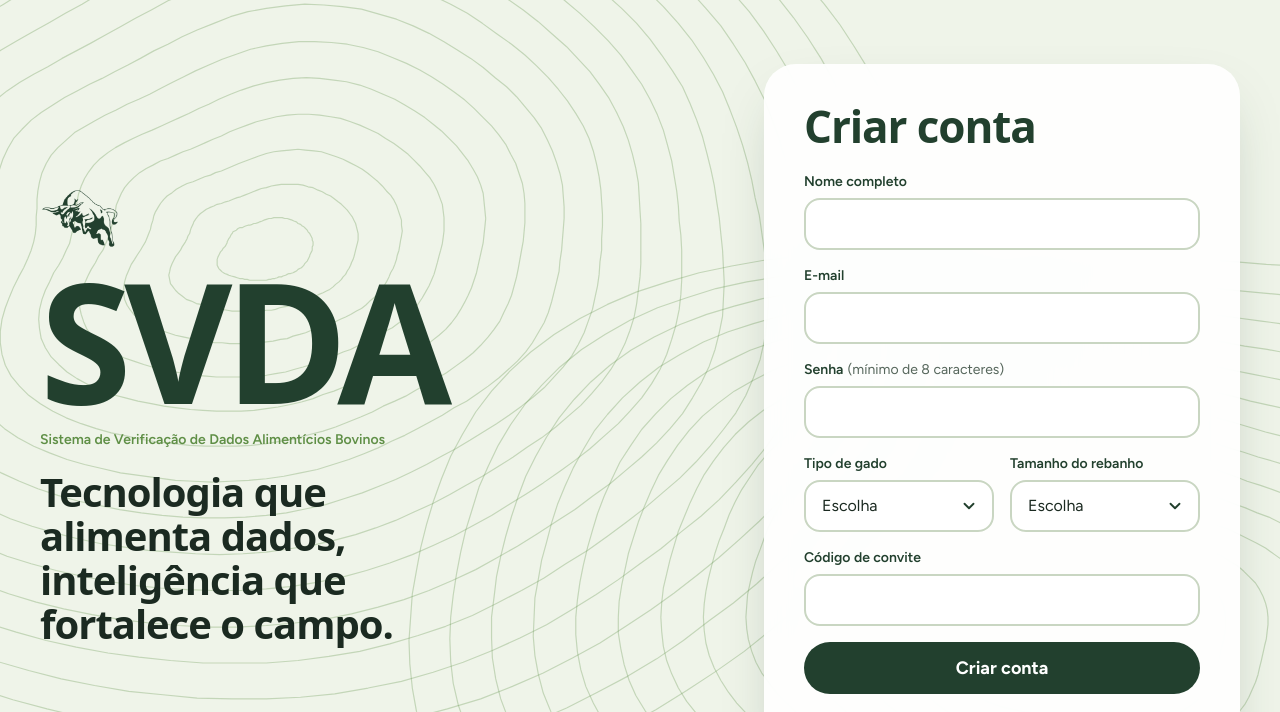
sign-up › registers with the profile codes and goes to the login page
Type "Ana Souza" into the field labelled "Nome completo". click: {"x": 1002, "y": 224}
box: [804, 198, 1200, 250]
Type "ana@example.com" into the field labelled "E-mail". click: {"x": 1002, "y": 318}
box: [804, 292, 1200, 344]
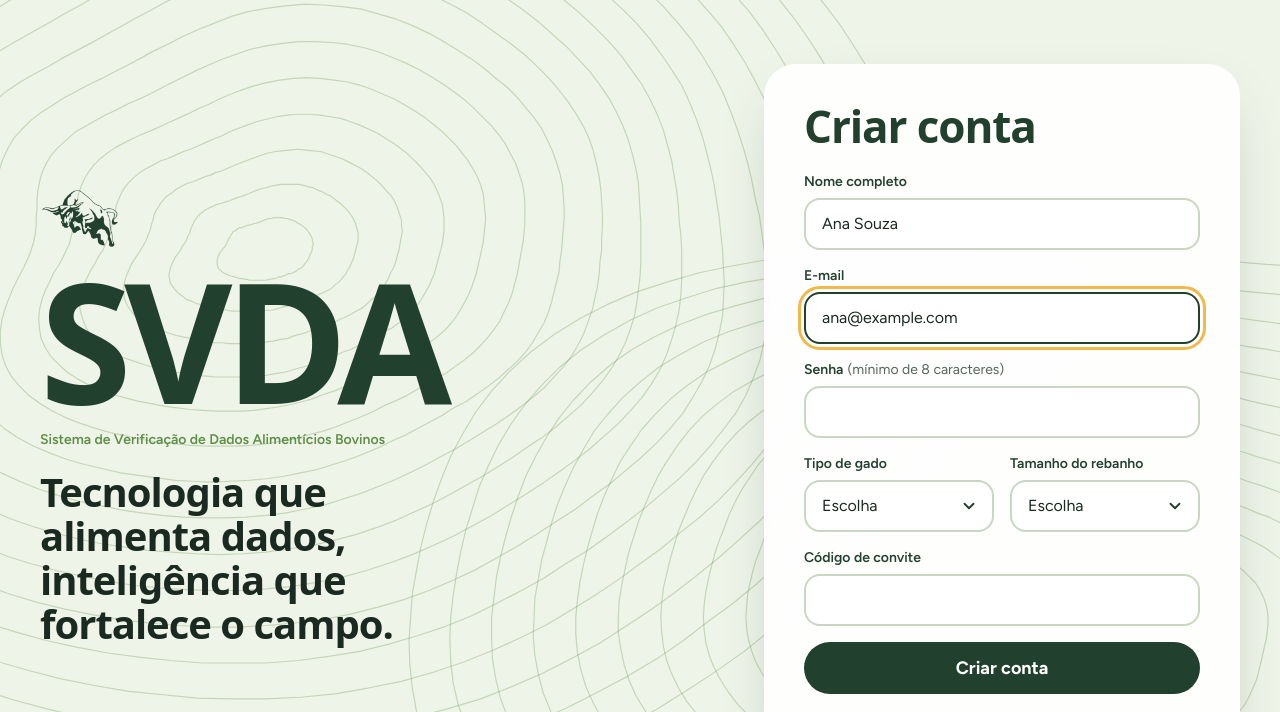
Type "senha-segura-1" into the password field labelled "Senha(mínimo de 8 caracteres)". click: {"x": 1002, "y": 412}
box: [804, 386, 1200, 438]
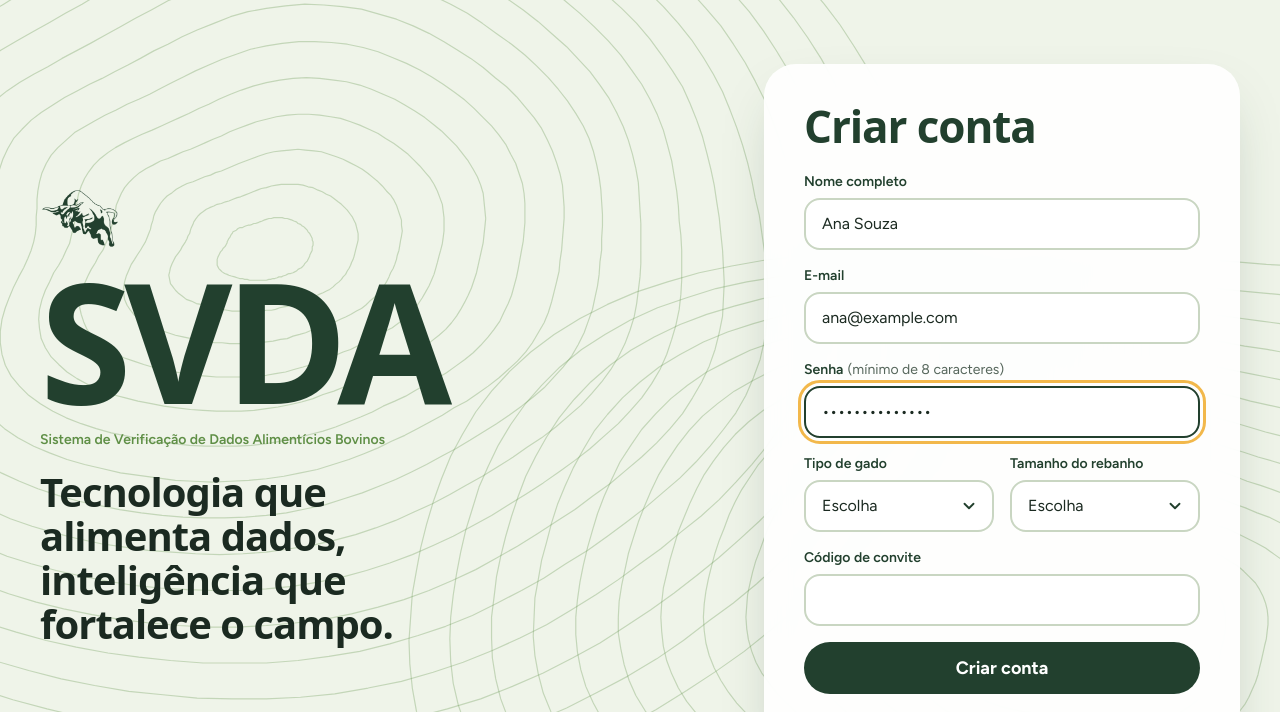
Select "Corte" in the dropdown labelled "Tipo de gado". click: {"x": 899, "y": 506}
box: [804, 480, 994, 532]
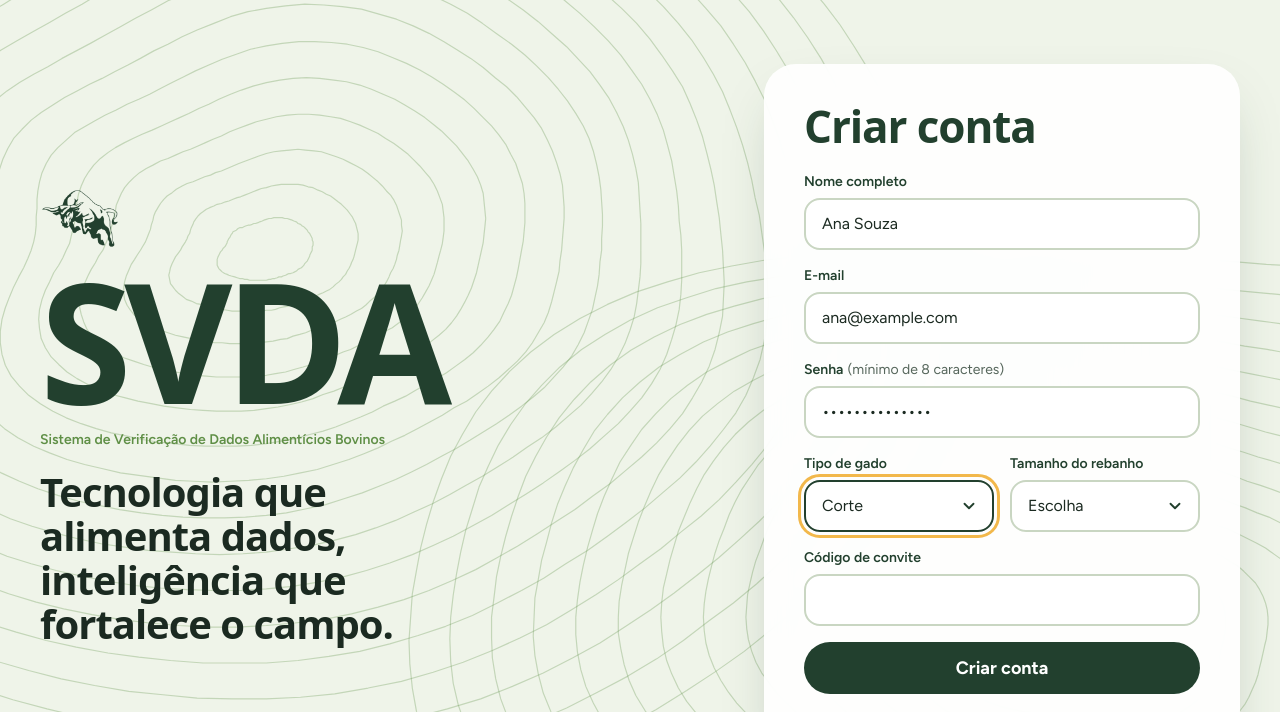
Select "Médio" in the dropdown labelled "Tamanho do rebanho". click: {"x": 1105, "y": 506}
box: [1010, 480, 1200, 532]
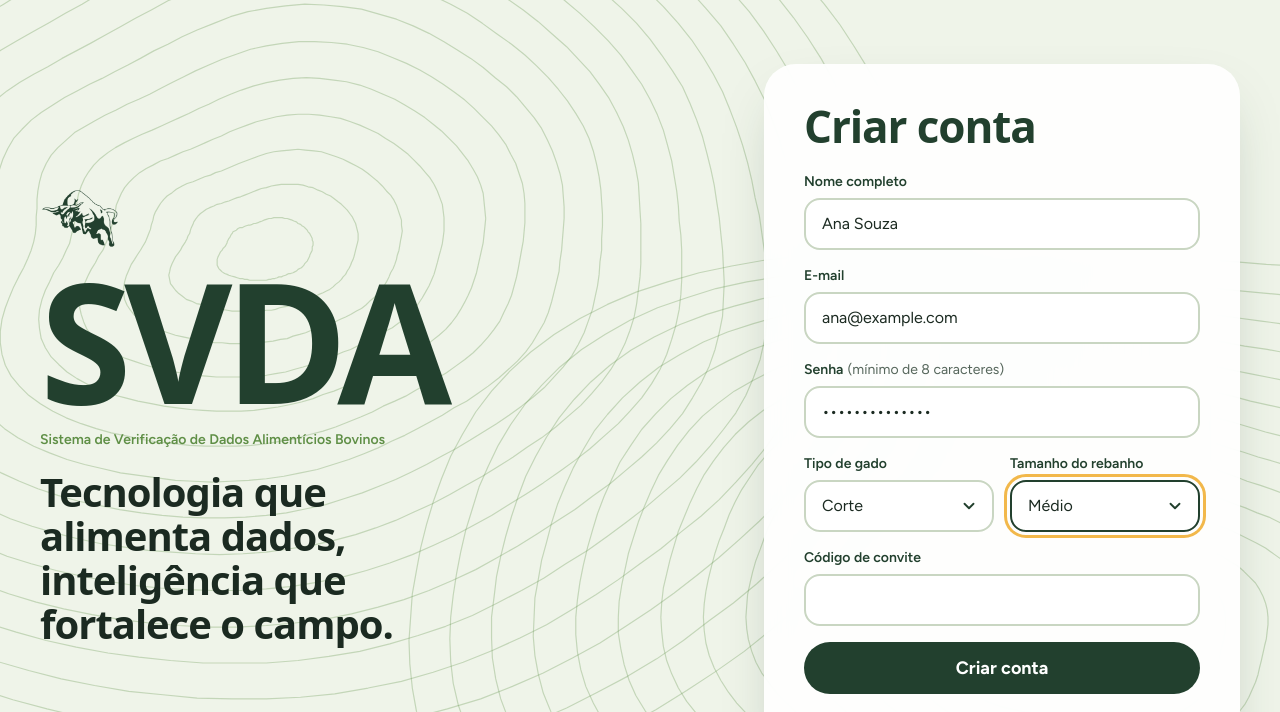
Type "demo-secret" into the field labelled "Código de convite". click: {"x": 1002, "y": 600}
box: [804, 574, 1200, 626]
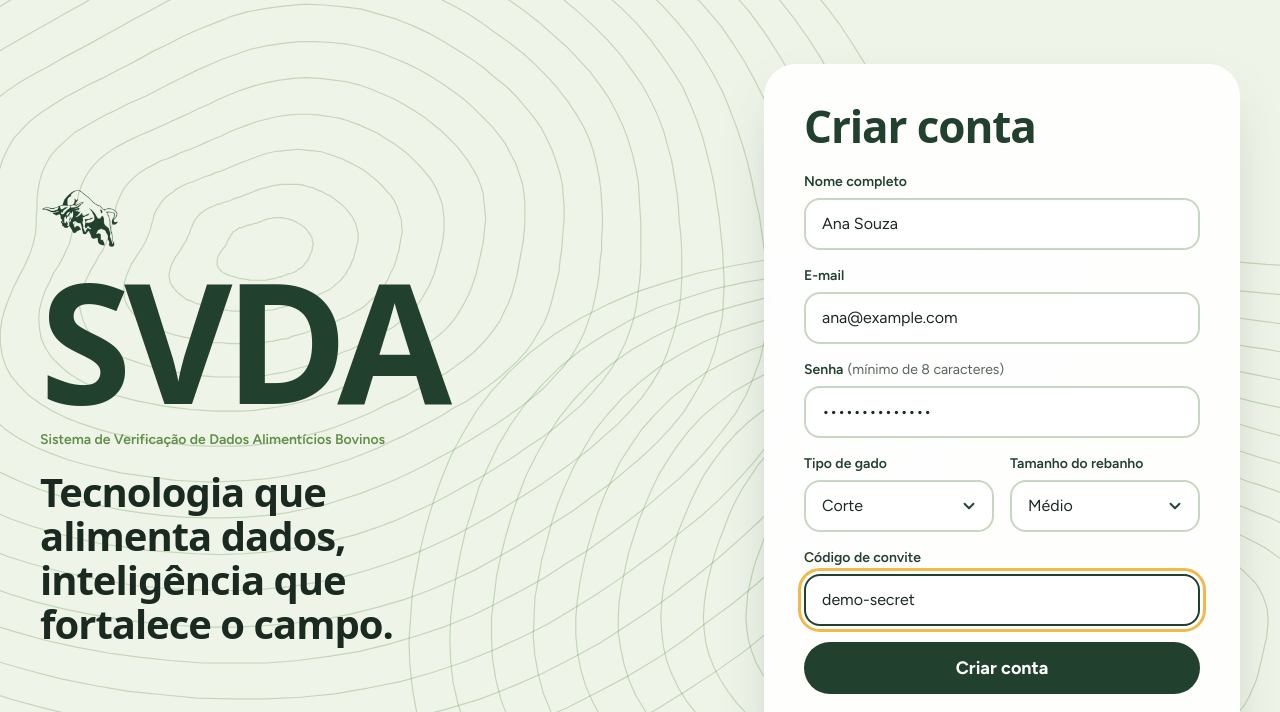
Click the button "Criar conta". click: {"x": 1002, "y": 668}
box: [804, 642, 1200, 694]
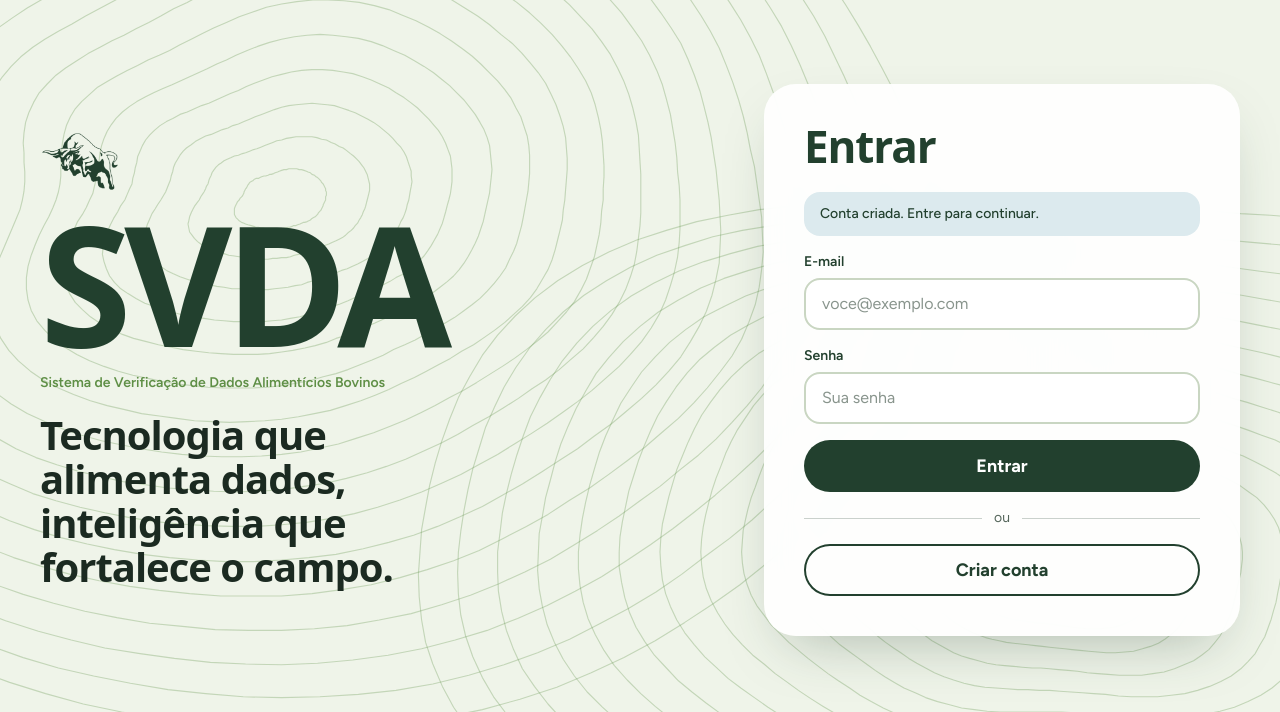
Result: the heading "Entrar" is shown at [804, 116, 936, 176]
Result: the message shows "Conta criada" at [820, 205, 1039, 222]
